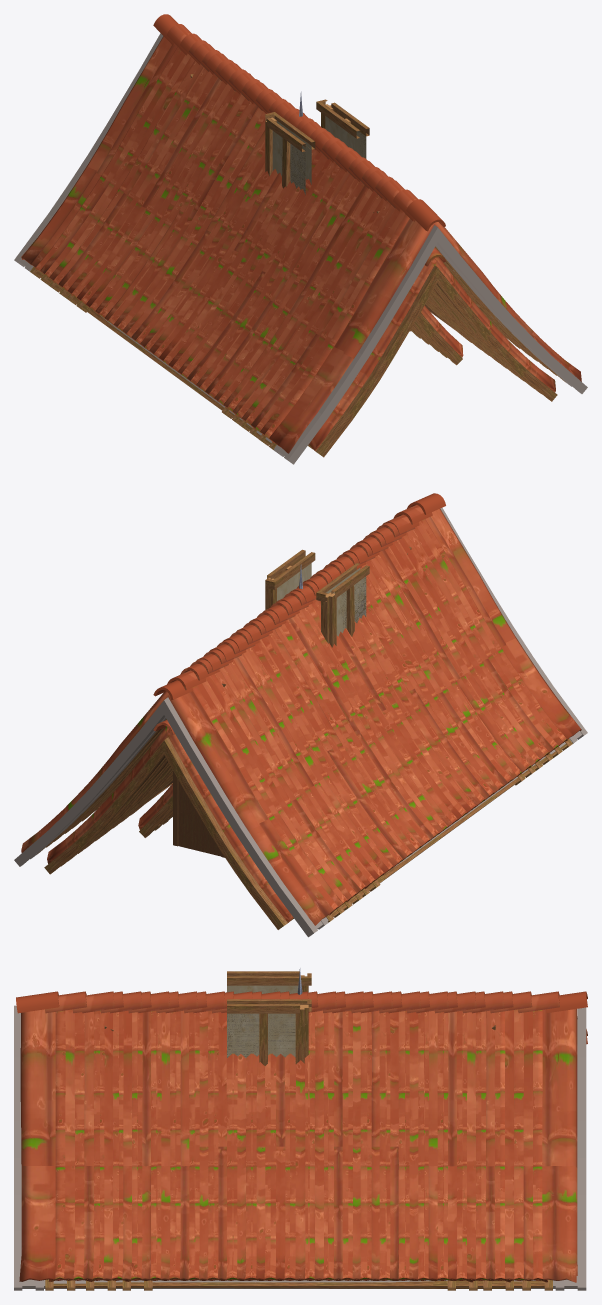
The model's file is pueblo.glb.
3 renders of one model, top to bottom at view 1: azimuth 30°, elevation 25°; view 2: azimuth 150°, elevation 25°; view 3: azimuth 270°, elevation 25°, orthographic. The views are drawn at different scales.
Visible parts, largest first — view 1: Roof_RoundTiles_8x14, Roof_RoundTiles_8x12, Roof_RoundTiles_8x10, Roof_RoundTiles_6x14, Roof_RoundTiles_8x8, Overhang_Side_Plaster_Long_L, Overhang_Side_Plaster_Long_R, Roof_RoundTiles_4x8, Overhang_Side_Plaster_Short_L; view 2: Roof_RoundTiles_8x14, Roof_RoundTiles_8x10, Roof_RoundTiles_8x12, Roof_RoundTiles_8x8, Roof_RoundTiles_6x14, Stair_Interior_SolidExtended, Overhang_Side_Plaster_Long_L, Overhang_Side_Plaster_Long_R, Overhang_Side_Plaster_Short_L, Roof_RoundTiles_4x8; view 3: Roof_RoundTiles_8x14, Roof_RoundTiles_8x12, Roof_RoundTiles_8x10, Roof_RoundTiles_8x8, Overhang_Side_Plaster_Long_R, Overhang_Side_Plaster_Long_L, Overhang_Side_Plaster_Short_R, Overhang_Side_UnevenBrick_Long_R.
Boxes of the visible parts, box(x1,y1,x2,y2) form: Roof_RoundTiles_8x14: box(14, 14, 587, 464); Roof_RoundTiles_8x12: box(30, 24, 565, 449); Roof_RoundTiles_8x10: box(48, 40, 547, 438); Roof_RoundTiles_6x14: box(308, 248, 557, 457); Roof_RoundTiles_8x8: box(66, 50, 529, 424); Overhang_Side_Plaster_Long_L: box(265, 112, 315, 194); Overhang_Side_Plaster_Long_R: box(316, 100, 369, 158); Roof_RoundTiles_4x8: box(413, 305, 463, 365); Overhang_Side_Plaster_Short_L: box(265, 114, 293, 188); Roof_RoundTiles_8x14: box(14, 493, 587, 937); Roof_RoundTiles_8x10: box(54, 523, 553, 910); Roof_RoundTiles_8x12: box(36, 505, 572, 922); Roof_RoundTiles_8x8: box(72, 533, 535, 896); Roof_RoundTiles_6x14: box(44, 720, 293, 929); Stair_Interior_SolidExtended: box(173, 771, 224, 857); Overhang_Side_Plaster_Long_L: box(316, 563, 369, 647); Overhang_Side_Plaster_Long_R: box(265, 549, 315, 609); Overhang_Side_Plaster_Short_L: box(317, 576, 354, 645); Roof_RoundTiles_4x8: box(138, 783, 172, 837); Roof_RoundTiles_8x14: box(14, 991, 587, 1290); Roof_RoundTiles_8x12: box(45, 991, 559, 1290); Roof_RoundTiles_8x10: box(82, 991, 513, 1290); Roof_RoundTiles_8x8: box(122, 991, 485, 1290); Overhang_Side_Plaster_Long_R: box(227, 999, 311, 1065); Overhang_Side_Plaster_Long_L: box(227, 971, 311, 993); Overhang_Side_Plaster_Short_R: box(259, 999, 311, 1064); Overhang_Side_UnevenBrick_Long_R: box(227, 1014, 295, 1057).
Size of the model in its own units: 9.95 by 8.91 by 15.71.
Materials: 10 (9 with a texture image).
